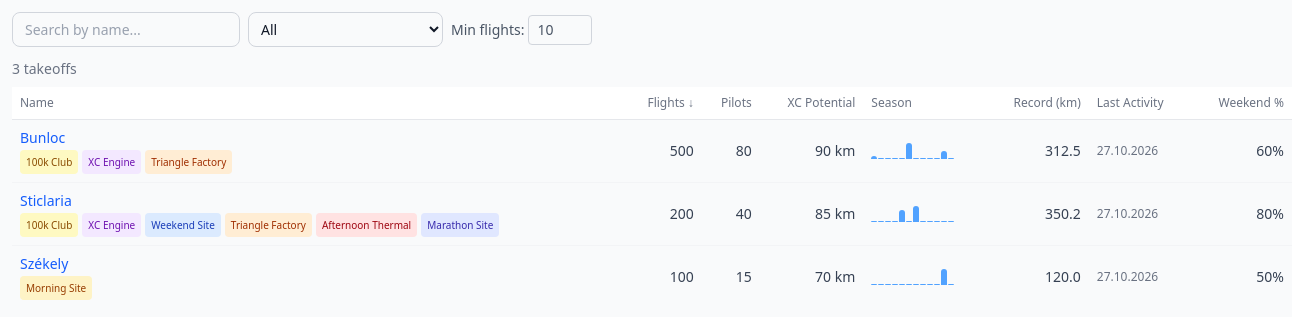
TakeoffsTable › filters takeoffs by search input
Type "Bunloc" into the field with placeholder "Search by name...".
click(126, 30); type("Bunloc")  # box [12,12,240,47]
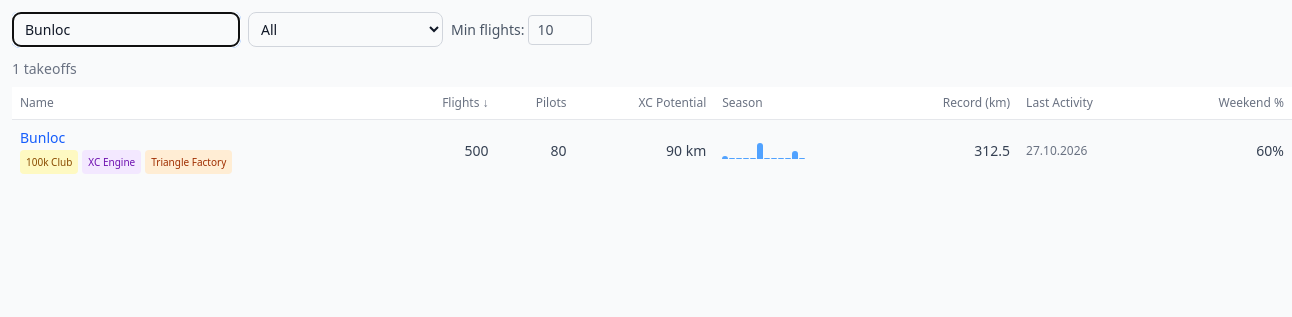
Expected: the link "Bunloc" is shown, [20,128,65,147]
Expected: the link "Sticlaria" is gone
Expected: the text "1 takeoffs" is shown, [12,59,77,78]
